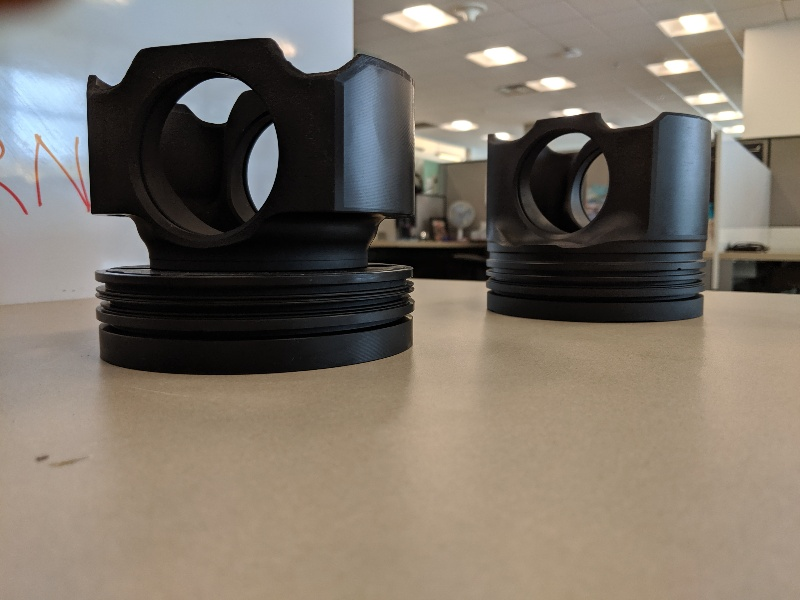piston: (76, 36, 428, 382), (477, 106, 715, 331)
